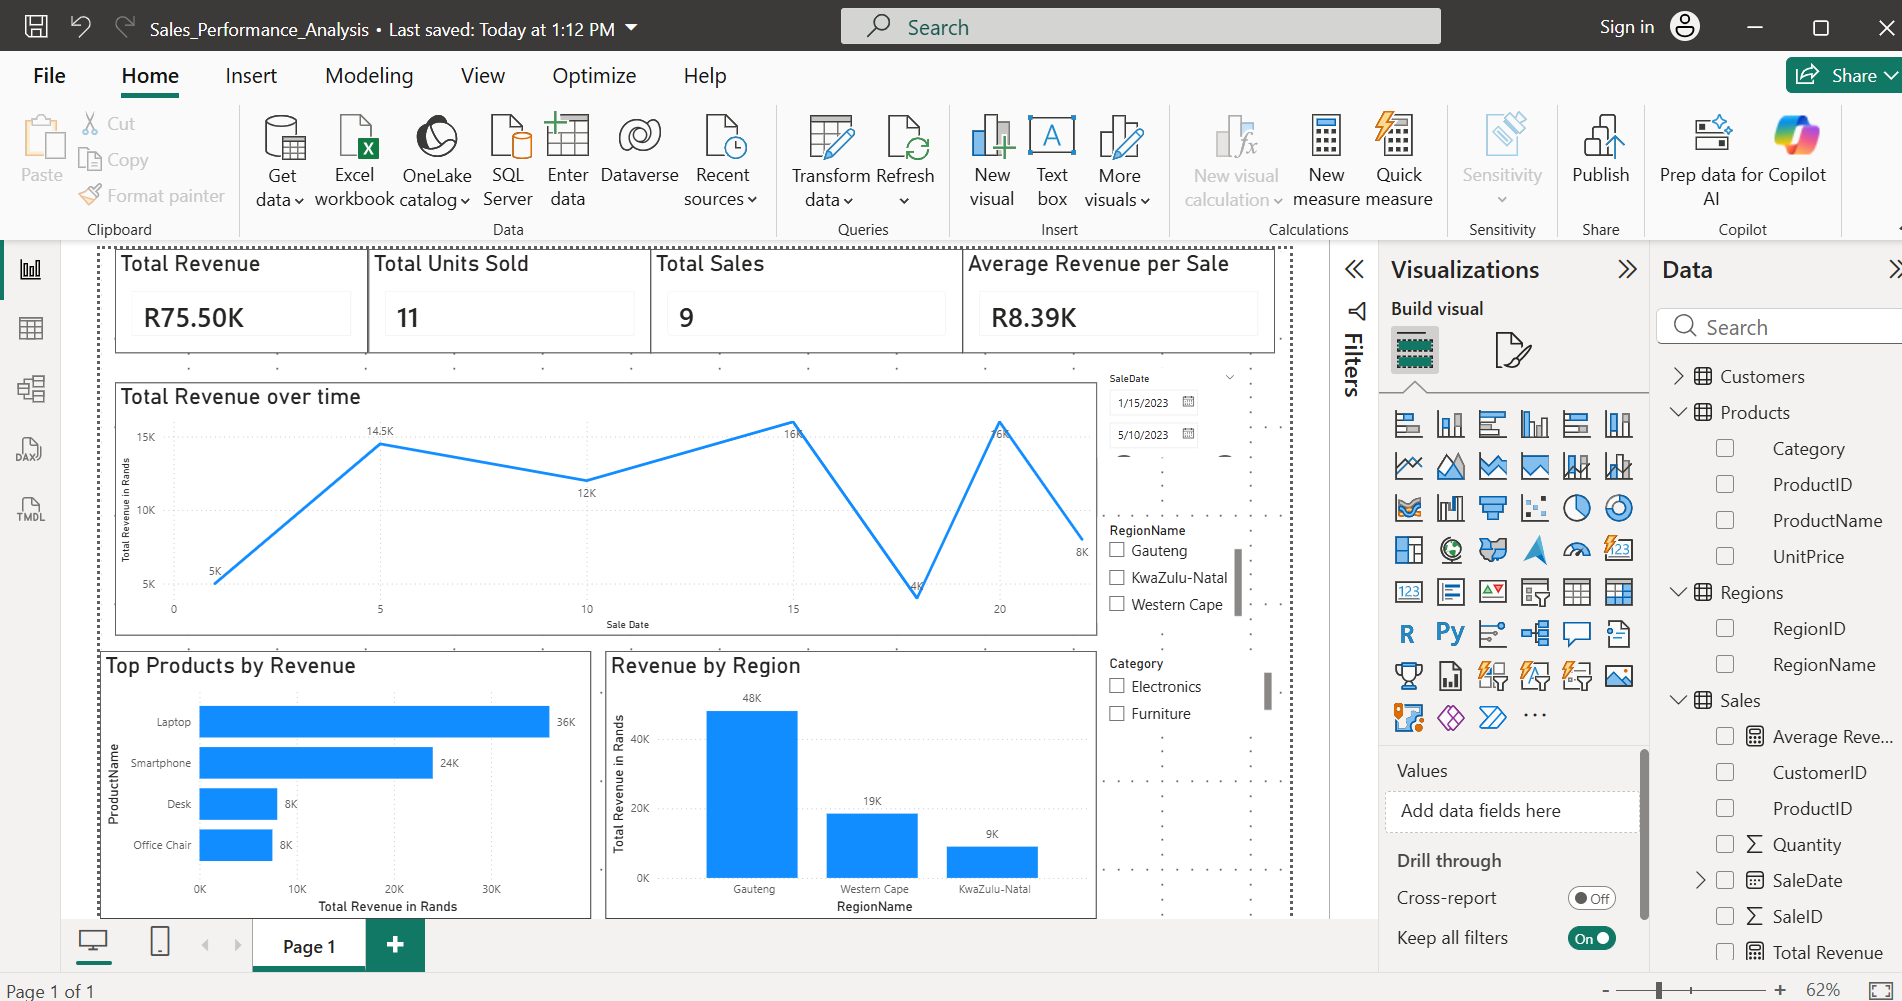

Layout of this report page (visuals, bound fields, positions):
{"tool":"powerbi","page":{"name":"Page 1","canvas":[1280,720],"ordinal":0},"visuals":[{"type":"cardVisual","title":"Total Revenue","fields":{"Data":["Sales.Total Revenue"]},"box":[16,0,272,112],"z":0},{"type":"cardVisual","title":"Total Units Sold","fields":{"Data":["Sales.Total Units Sold"]},"box":[288,0,304,112],"z":1000},{"type":"cardVisual","title":"Total Sales","fields":{"Data":["Sales.Total Sales"]},"box":[592,0,336,112],"z":2000},{"type":"cardVisual","title":"Average Revenue per Sale","fields":{"Data":["Sales.Average Revenue per Sale"]},"box":[928,0,336,112],"z":3000},{"type":"lineChart","title":"Total Revenue over time ","fields":{"Category":["Sales.SaleDate.Variation.Date Hierarchy.Day"],"Y":["Sales.Total Revenue"]},"box":[16,144,1056,272],"z":4000},{"type":"clusteredBarChart","title":"Top Products by Revenue","fields":{"Category":["Products.ProductName"],"Y":["Sales.Total Revenue"]},"box":[0,432,528,288],"z":6000},{"type":"clusteredColumnChart","title":"Revenue by Region","fields":{"Category":["Regions.RegionName"],"Y":["Sales.Total Revenue"]},"box":[544,432,528,288],"z":7000},{"type":"slicer","fields":{"Values":["Sales.SaleDate"]},"box":[1072,128,160,96],"z":8000},{"type":"slicer","fields":{"Values":["Regions.RegionName"]},"box":[1072,288,160,112],"z":9000},{"type":"slicer","fields":{"Values":["Products.Category"]},"box":[1072,432,192,80],"z":10000}]}

Visuals, with their boxes on the page's 1280x720 design canvas (x1, y1, x2, y2). These are canvas units, not pixel positions in the 1902x1001 screenshot, which may show the page scaled, cropped or inside an application window:
"Total Revenue" cardVisual: 16,0,288,112
"Total Units Sold" cardVisual: 288,0,592,112
"Total Sales" cardVisual: 592,0,928,112
"Average Revenue per Sale" cardVisual: 928,0,1264,112
"Total Revenue over time " lineChart: 16,144,1072,416
"Top Products by Revenue" clusteredBarChart: 0,432,528,720
"Revenue by Region" clusteredColumnChart: 544,432,1072,720
slicer - Sales.SaleDate: 1072,128,1232,224
slicer - Regions.RegionName: 1072,288,1232,400
slicer - Products.Category: 1072,432,1264,512
